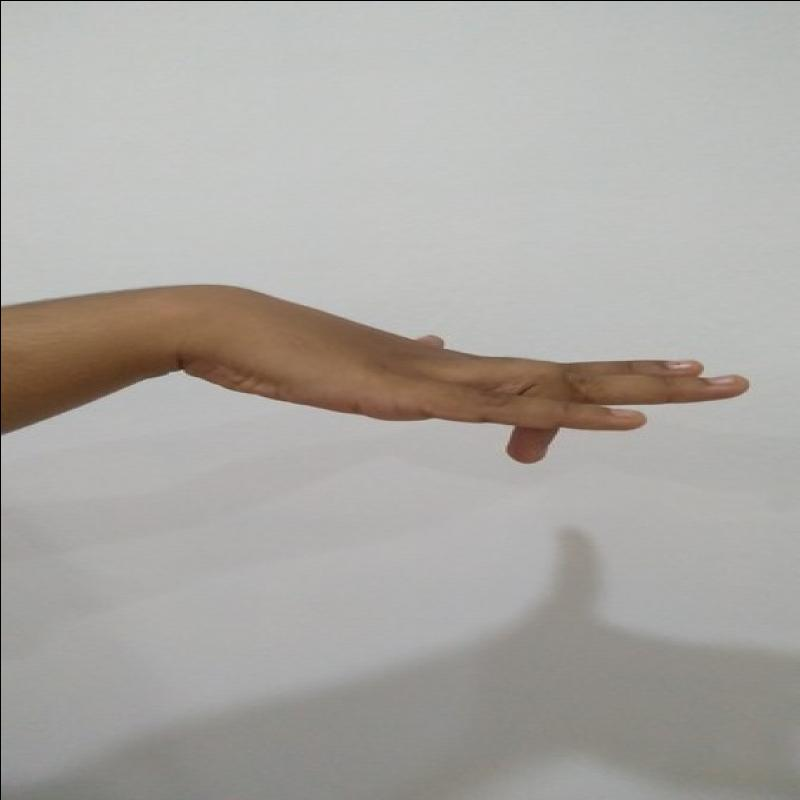Pathaaka: (165, 267, 768, 474)
